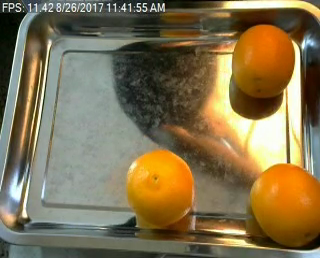Orange: (248, 164, 319, 247), (127, 148, 194, 224), (232, 22, 294, 97)
